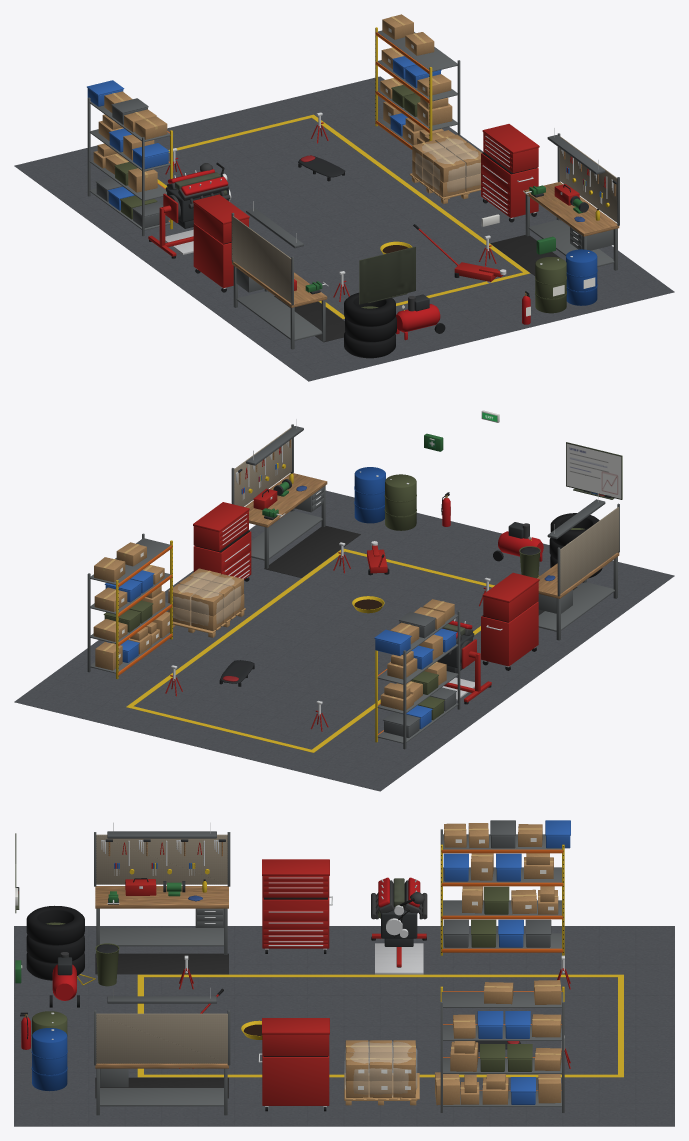
Rendered from mex-26-fitout.glb.
3 views of the same model, one above another, from view 1: azimuth 30°, elevation 25°; view 2: azimuth 150°, elevation 25°; view 3: azimuth 270°, elevation 25° (orthographic). The views are drawn at different scales.
Visible parts, largest first — view 1: MEX26_fitout; view 2: MEX26_fitout; view 3: MEX26_fitout.
Boxes of the visible parts, x1,y1,x2,y2 form: MEX26_fitout: (14, 14, 674, 381); MEX26_fitout: (14, 410, 674, 791); MEX26_fitout: (14, 820, 674, 1126).
Size of the model in its own units: 7.8 by 2.43 by 10.87.
40 materials, 11 textured.
